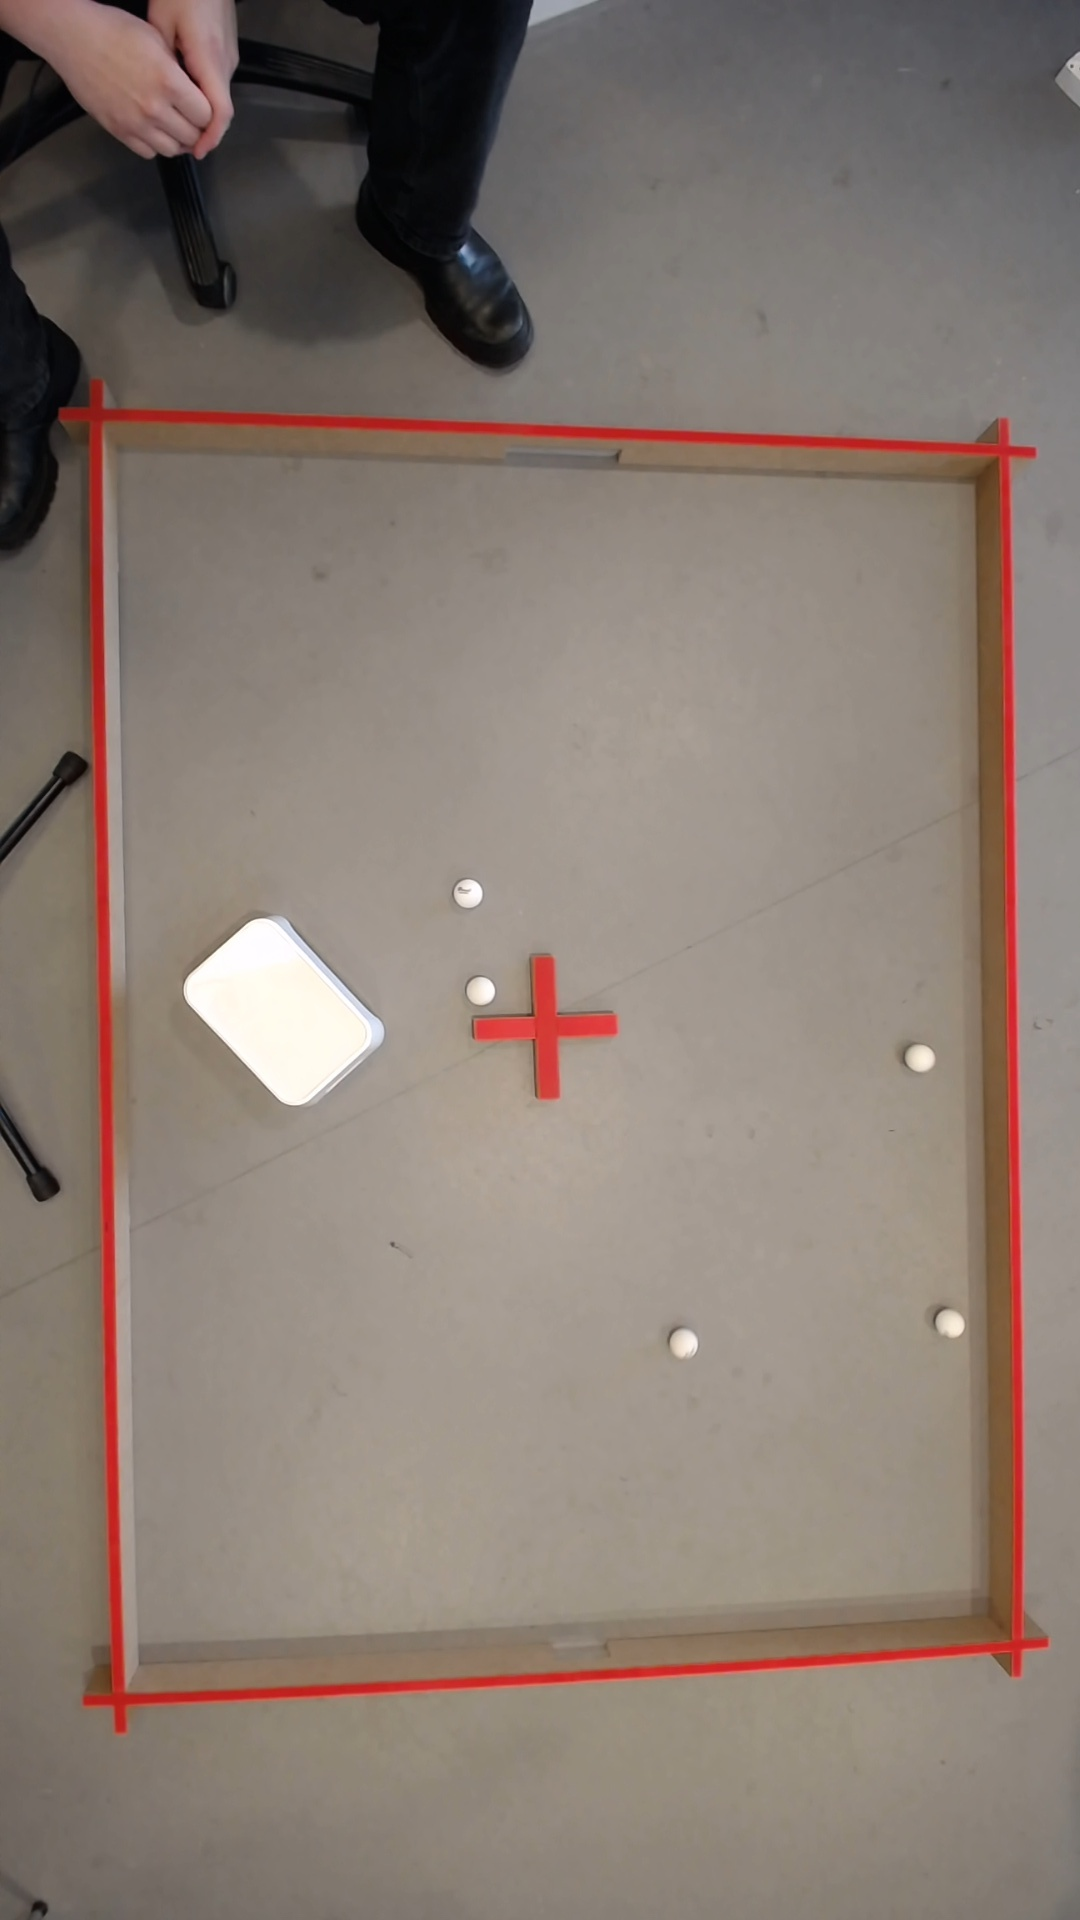balls: (173, 901, 389, 1118), (164, 59, 212, 113), (450, 874, 487, 911), (464, 972, 498, 1007), (905, 1042, 938, 1075), (670, 1328, 702, 1360), (936, 1308, 968, 1338)
car: (207, 69, 228, 104)
